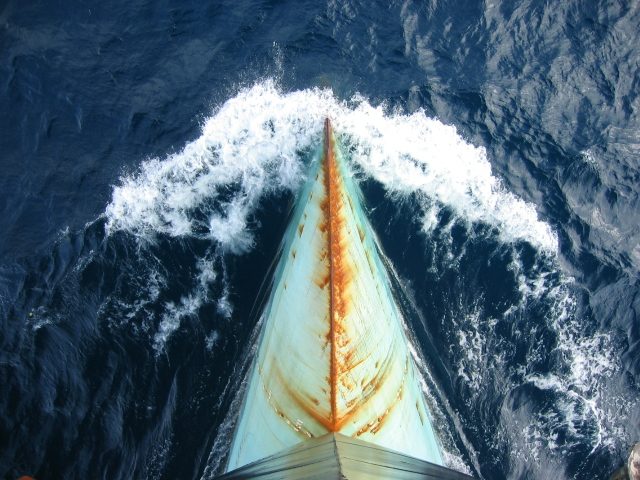rust: (322, 124, 344, 426)
